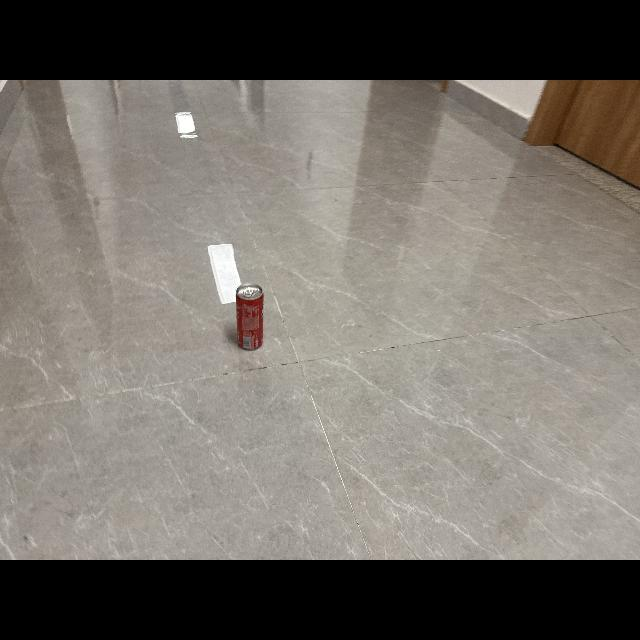Cola: (232, 282, 270, 354)
